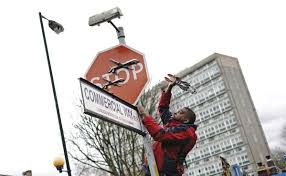stop sign: (85, 45, 149, 106)
